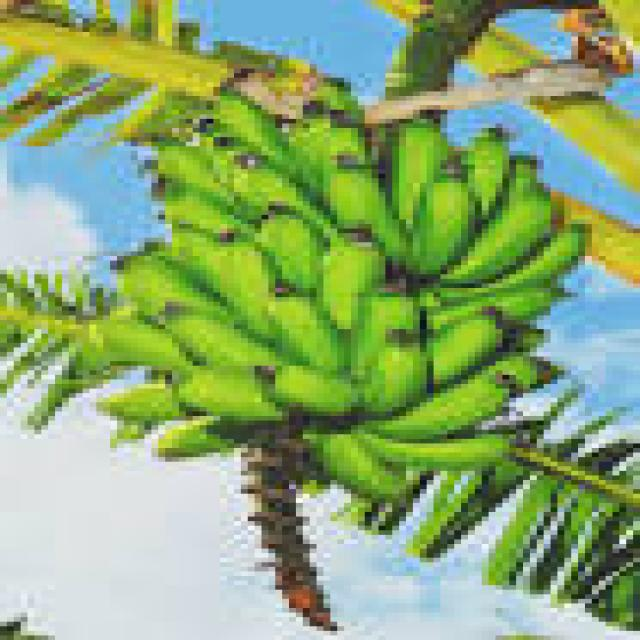banana: (358, 357, 557, 443), (441, 188, 557, 287), (173, 229, 275, 338), (441, 224, 584, 301), (228, 151, 337, 237), (324, 156, 406, 265), (207, 87, 295, 173), (386, 119, 454, 228), (117, 252, 227, 319), (413, 170, 481, 278), (166, 307, 282, 370), (290, 106, 371, 191), (420, 284, 571, 329), (310, 435, 406, 502), (427, 311, 509, 388), (317, 238, 385, 329), (269, 293, 344, 374), (255, 211, 330, 292), (179, 366, 289, 420), (90, 316, 192, 374), (351, 293, 419, 379), (159, 183, 261, 237), (358, 435, 509, 470), (358, 339, 426, 415), (152, 142, 227, 201), (269, 366, 357, 415), (462, 128, 509, 219), (97, 380, 185, 425), (152, 416, 233, 461), (317, 78, 364, 118), (503, 156, 543, 201), (510, 325, 543, 351)
